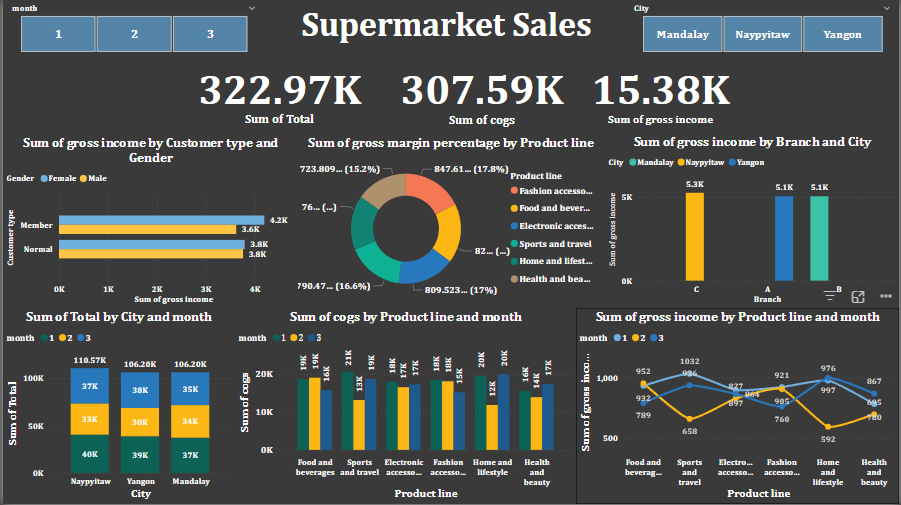

This screenshot's page, from the dashboard's own definition file:
{"tool":"powerbi","page":{"name":"Sales2","canvas":[1280,720],"ordinal":1},"visuals":[{"type":"lineStackedColumnComboChart","fields":{"Category":["Table1.City"],"Series":["Table1.month"],"Y":["Sum(Table1.Total)"]},"box":[0,440,331.4,280],"z":0},{"type":"donutChart","fields":{"Y":["Sum(Table1.gross margin percentage)"],"Category":["Table1.Product line"]},"box":[422,191.6,437.3,248.5],"z":1000},{"type":"clusteredColumnChart","fields":{"Y":["Sum(Table1.cogs)"],"Category":["Table1.Product line"],"Series":["Table1.month"]},"box":[331.4,440,487.1,280],"z":2000},{"type":"lineChart","fields":{"Category":["Table1.Product line"],"Y":["Sum(Table1.gross income)"],"Series":["Table1.month"]},"box":[818.6,440,461.4,280],"z":3000},{"type":"textbox","box":[421.4,0,437.1,72.9],"z":4000},{"type":"clusteredBarChart","fields":{"Category":["Table1.Customer type"],"Y":["Sum(Table1.gross income)"],"Series":["Table1.Gender"]},"box":[0,191.4,421.4,248.6],"z":5000},{"type":"clusteredColumnChart","fields":{"Category":["Table1.Branch"],"Y":["Sum(Table1.gross income)"],"Series":["Table1.City"]},"box":[859.3,190.2,420.7,249.9],"z":6000},{"type":"card","fields":{"Values":["Sum(Table1.Total)"]},"box":[241.4,72.9,307.1,118.6],"z":7000},{"type":"card","fields":{"Values":["Sum(Table1.gross income)"]},"box":[819.1,72.2,241.6,119.4],"z":8000},{"type":"card","fields":{"Values":["Sum(Table1.cogs)"]},"box":[548.4,72.2,270.7,119.4],"z":9000},{"type":"slicer","fields":{"Values":["Table1.month"]},"box":[0,0,373.4,80.5],"z":10000},{"type":"slicer","fields":{"Values":["Table1.City"]},"box":[888.5,0,391.5,80.5],"z":11000}]}

Visuals, with their boxes in screenshot pixels (x1, y1, x2, y2), scaled from the page's 1280x720 canvas onto the 901x505 screenshot:
lineStackedColumnComboChart - Table1.City x Table1.month: pyautogui.locateOnScreen(0, 309, 233, 504)
donutChart - Sum(Table1.gross margin percentage) x Table1.Product line: pyautogui.locateOnScreen(297, 134, 605, 309)
clusteredColumnChart - Sum(Table1.cogs) x Table1.Product line: pyautogui.locateOnScreen(233, 309, 576, 504)
lineChart - Table1.Product line x Sum(Table1.gross income): pyautogui.locateOnScreen(576, 309, 900, 504)
textbox: pyautogui.locateOnScreen(297, 0, 604, 51)
clusteredBarChart - Table1.Customer type x Sum(Table1.gross income): pyautogui.locateOnScreen(0, 134, 297, 309)
clusteredColumnChart - Table1.Branch x Sum(Table1.gross income): pyautogui.locateOnScreen(605, 133, 900, 309)
card - Sum(Table1.Total): pyautogui.locateOnScreen(170, 51, 386, 134)
card - Sum(Table1.gross income): pyautogui.locateOnScreen(577, 51, 747, 134)
card - Sum(Table1.cogs): pyautogui.locateOnScreen(386, 51, 577, 134)
slicer - Table1.month: pyautogui.locateOnScreen(0, 0, 263, 56)
slicer - Table1.City: pyautogui.locateOnScreen(625, 0, 900, 56)
